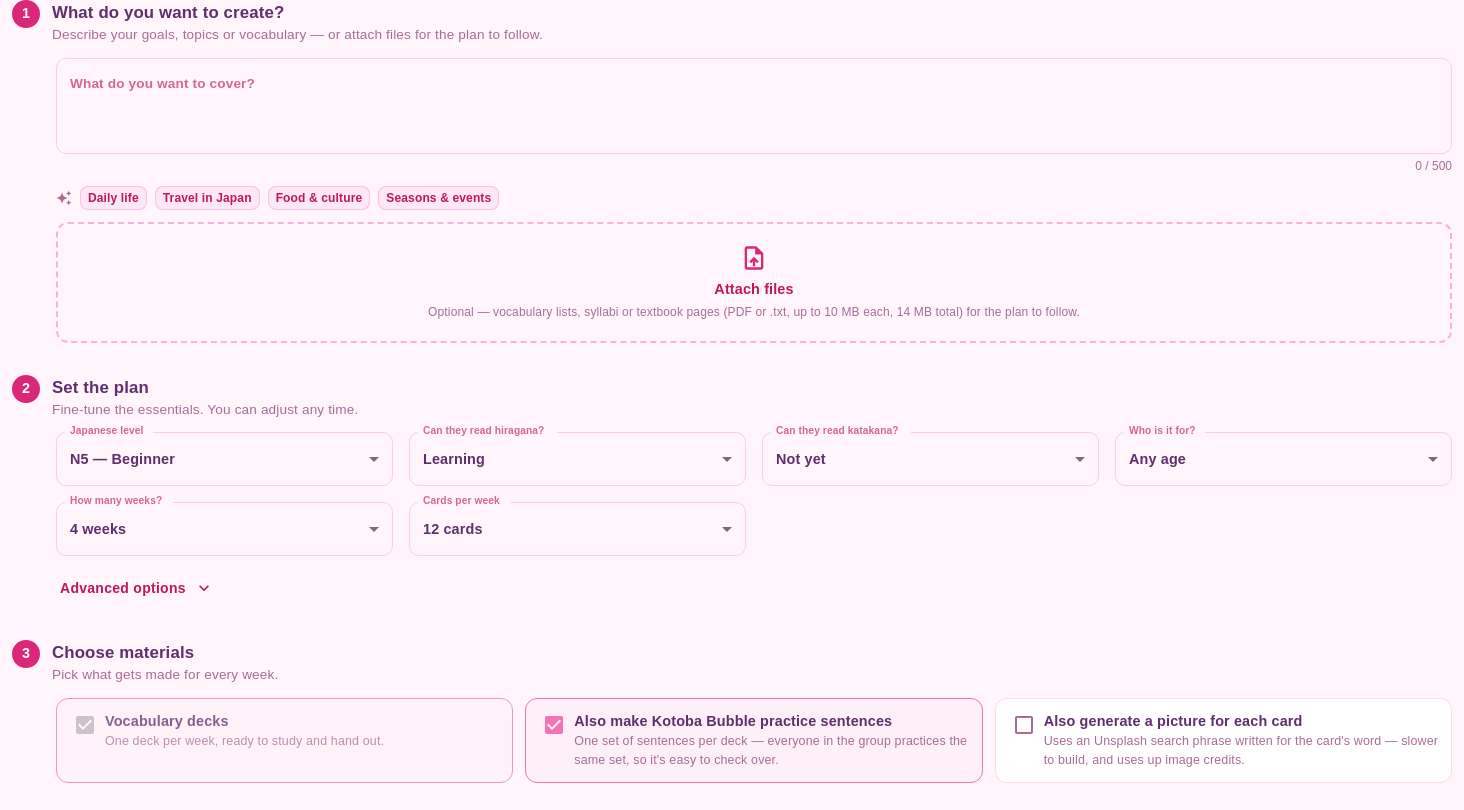
Test: LessonSetBuilder review step › sends the selected group id when building the plan
Replace the text in the text box labelled "What do you want to cover?" with "Food words": point(754, 106) [70,74,1438,137]
(page scrolled)
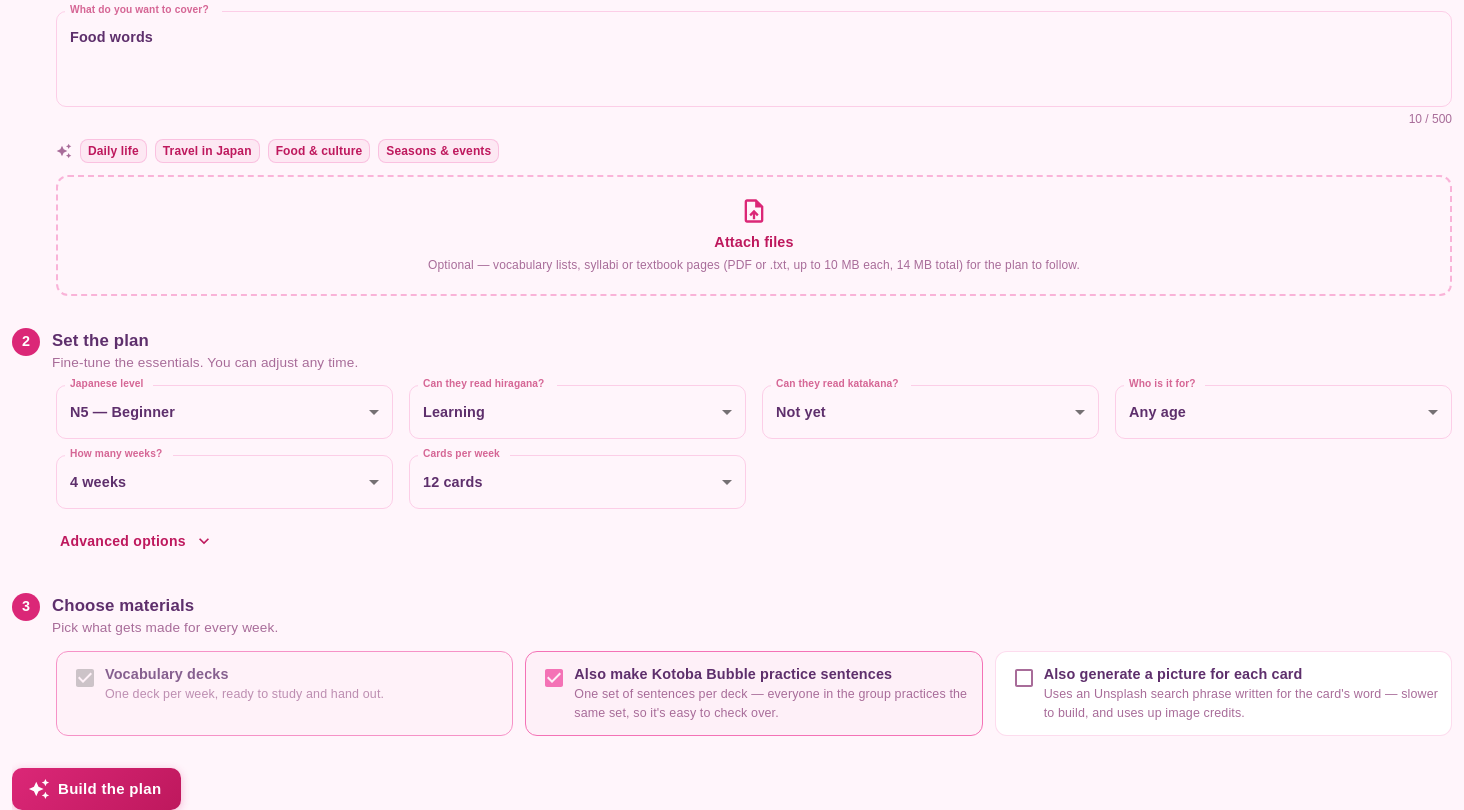
Click the button "Build the plan": point(97, 789) [12,768,181,809]
(page scrolled)
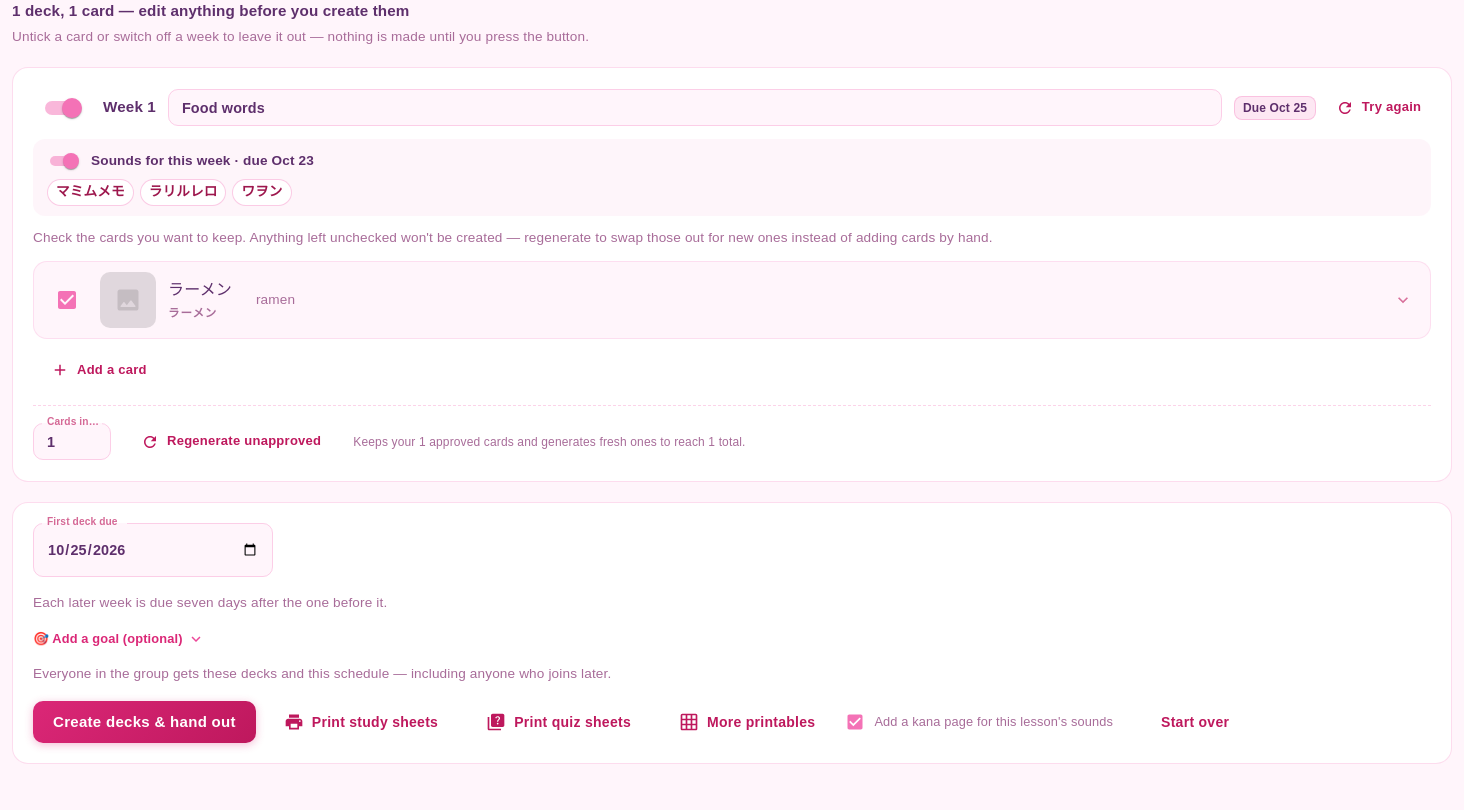
Result: the field showing "Food words" is shown at [168,89,1222,126]
